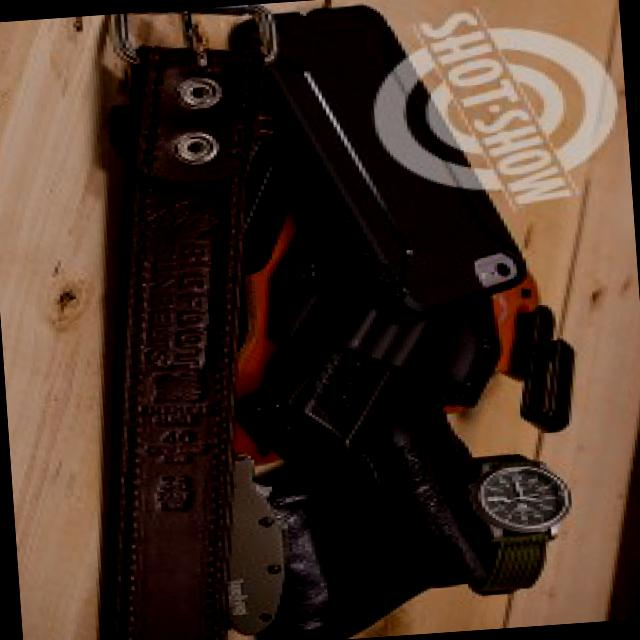handgun: (254, 309, 498, 595)
